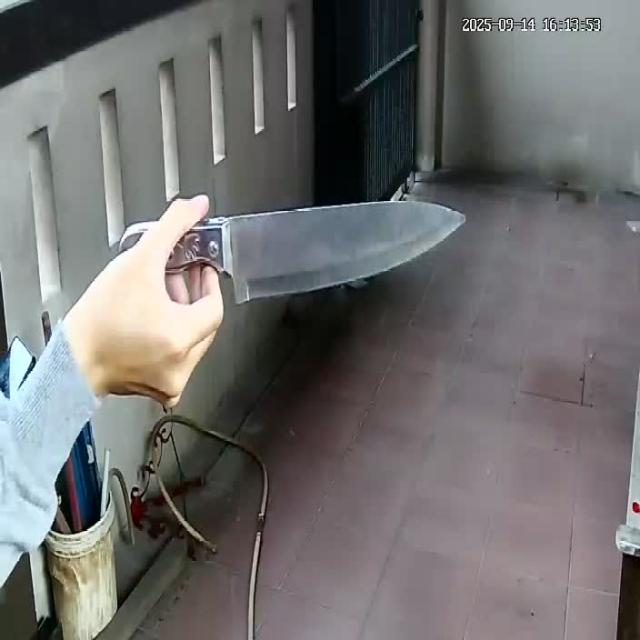senjata_tajam: (223, 196, 469, 307)
